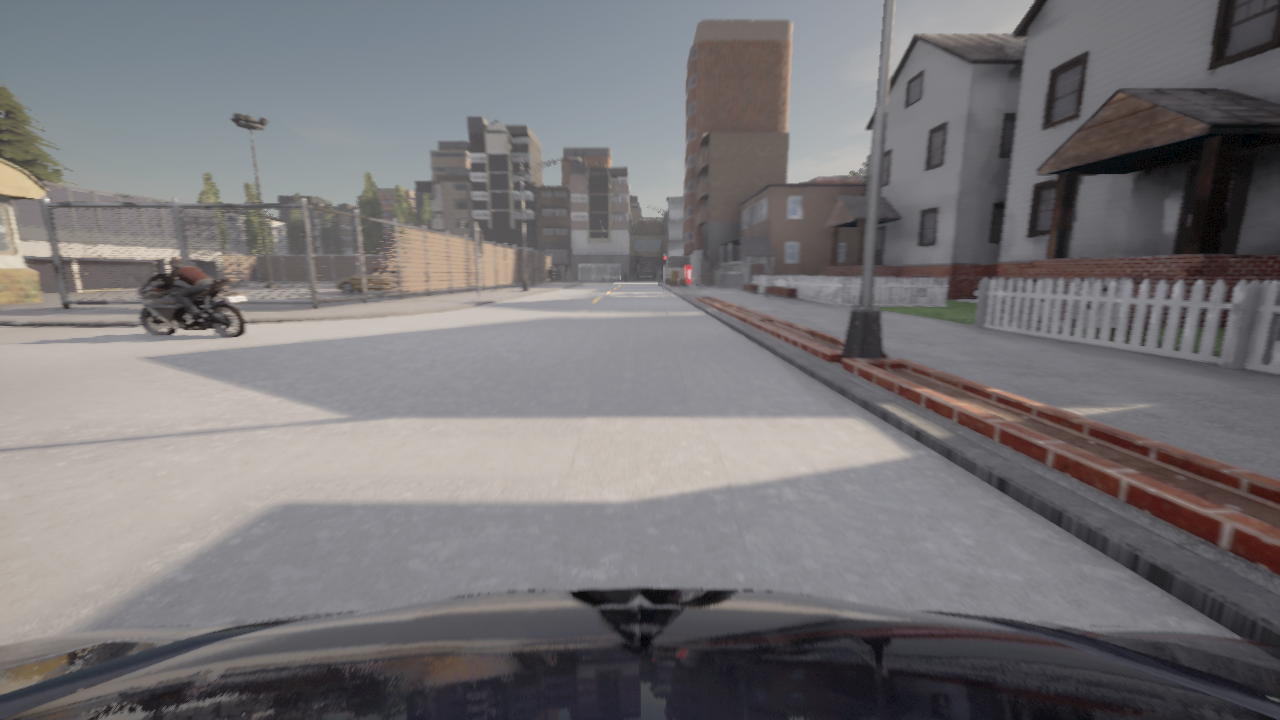cyclist: (0, 588, 1279, 719), (128, 272, 246, 337), (336, 267, 419, 293), (386, 265, 434, 290), (429, 263, 455, 289), (453, 271, 476, 284)
pedestrian: (547, 266, 551, 284), (694, 272, 698, 285)
